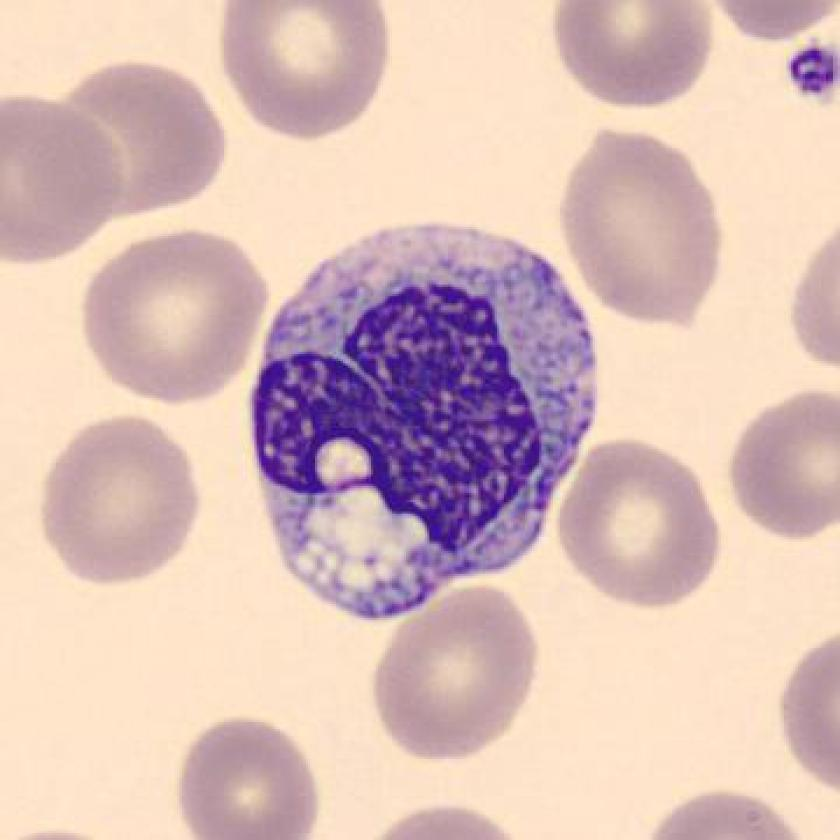monocyte: (235, 207, 620, 635)
